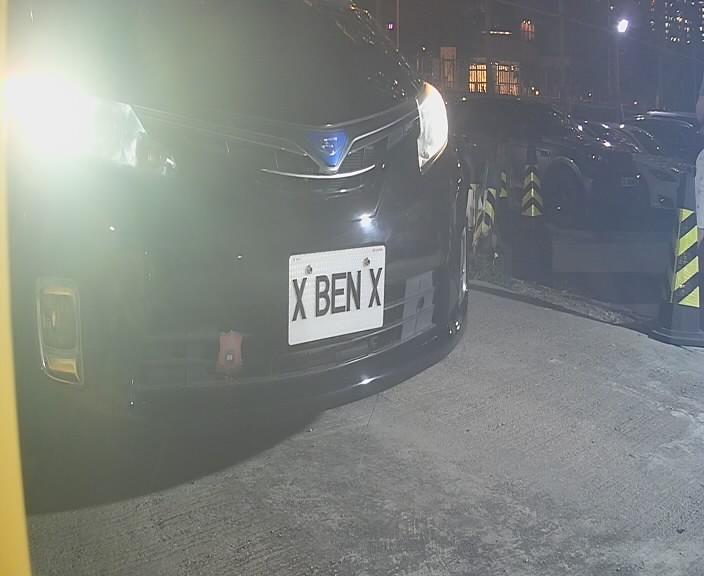privatecar: (13, 6, 472, 456)
